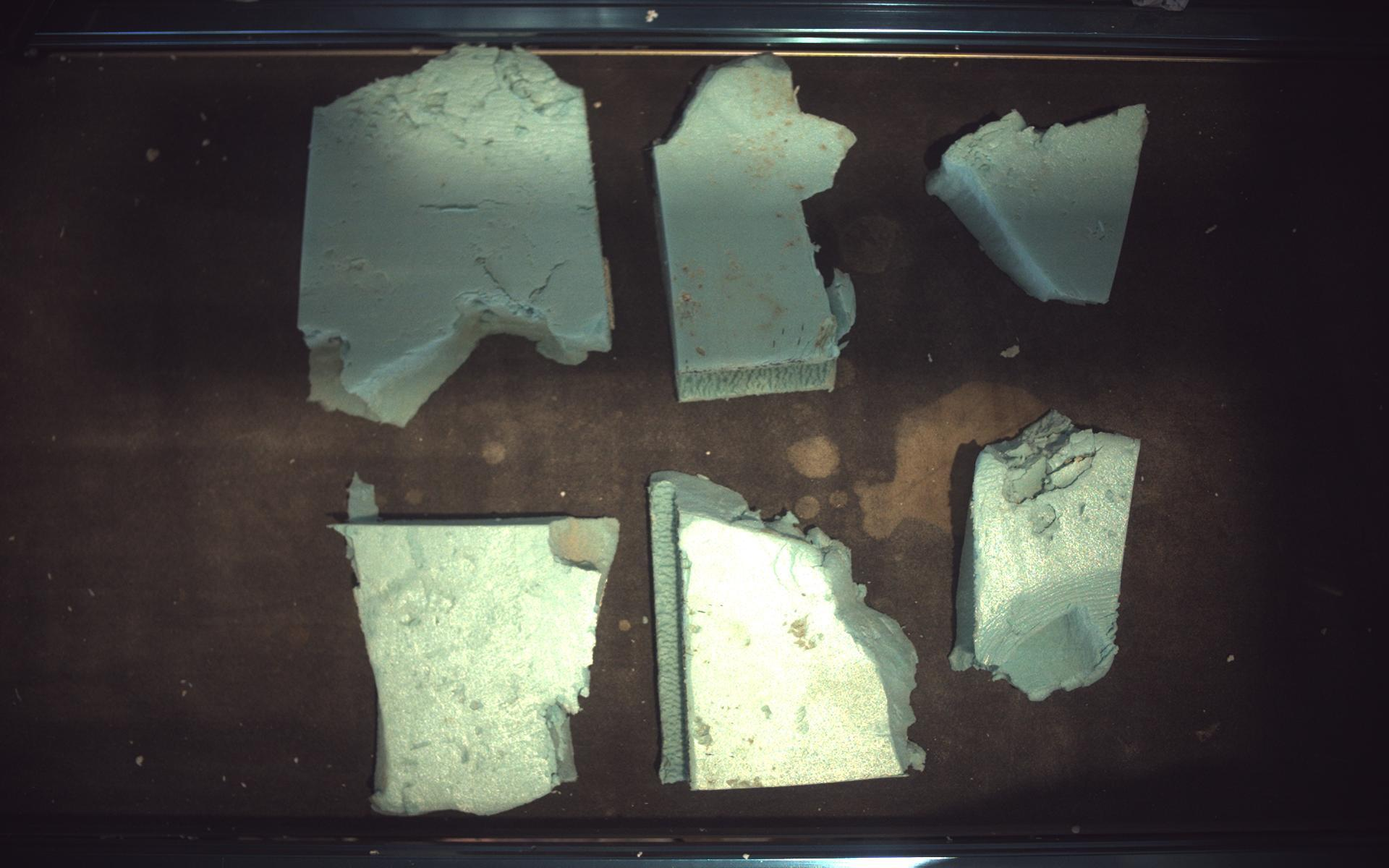foam: (297, 45, 611, 426), (333, 474, 620, 817), (649, 472, 926, 791), (654, 53, 857, 401), (952, 410, 1143, 702), (928, 103, 1150, 304)
